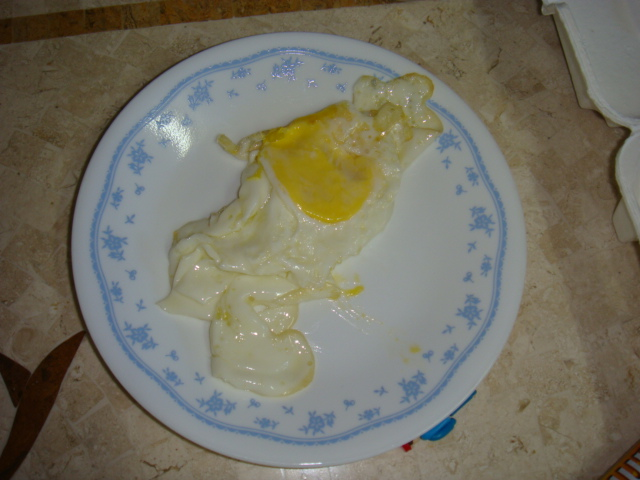fried egg: (190, 118, 429, 387)
